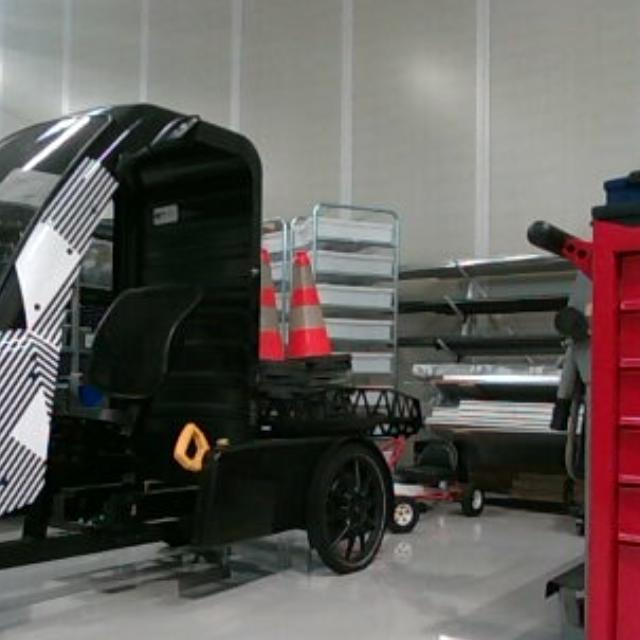Traffic-cone: (284, 252, 344, 370), (256, 240, 284, 369)
